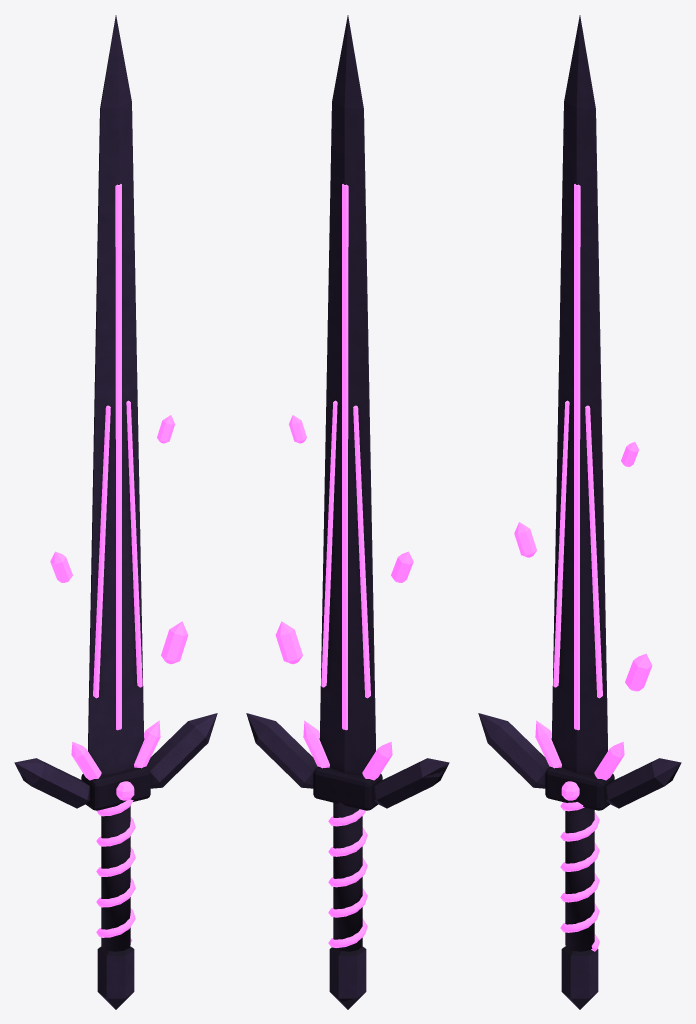
The model's file is 12_void_sword.fbx.
3 views of the same model, side by side, from view 1: azimuth 30°, elevation 25°; view 2: azimuth 150°, elevation 25°; view 3: azimuth 330°, elevation 25° (orthographic).
Visible parts, largest first — view 1: Weapon; view 2: Weapon; view 3: Weapon.
Boxes of the visible parts, x1=… form: Weapon: x1=14, y1=15, x2=217, y2=1009; Weapon: x1=246, y1=15, x2=449, y2=1009; Weapon: x1=478, y1=15, x2=681, y2=1009.
Bounding box in the file's own units: 26.95 × 126 × 5.39.
Materials: 2 (1 with a texture image).
